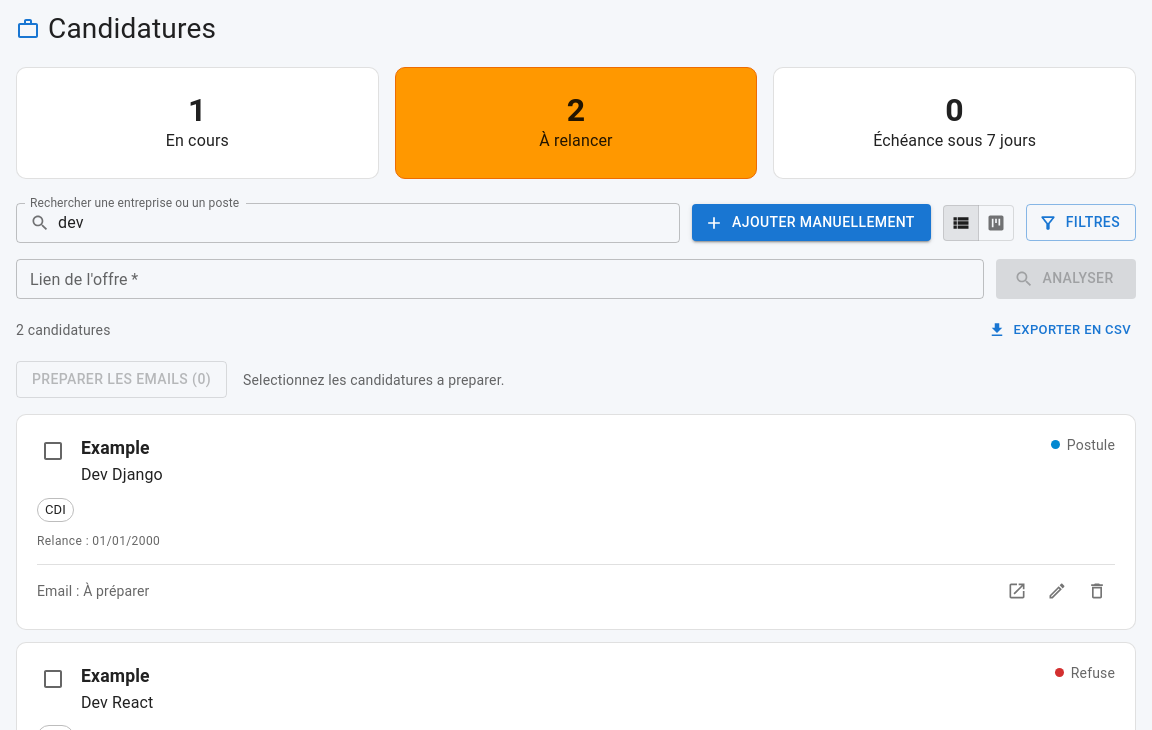
Test case: shows filtered counters and the redesigned search toolbar
Expected: the heading "Dev React" is shown, [81,690,153,715]
Expected: the field labelled "Rechercher une entreprise ou un poste" holds "dev", [58,203,680,243]
Click the button with aria-label "Afficher les filtres" at coordinates (1081, 223), box [1026,204,1136,241]
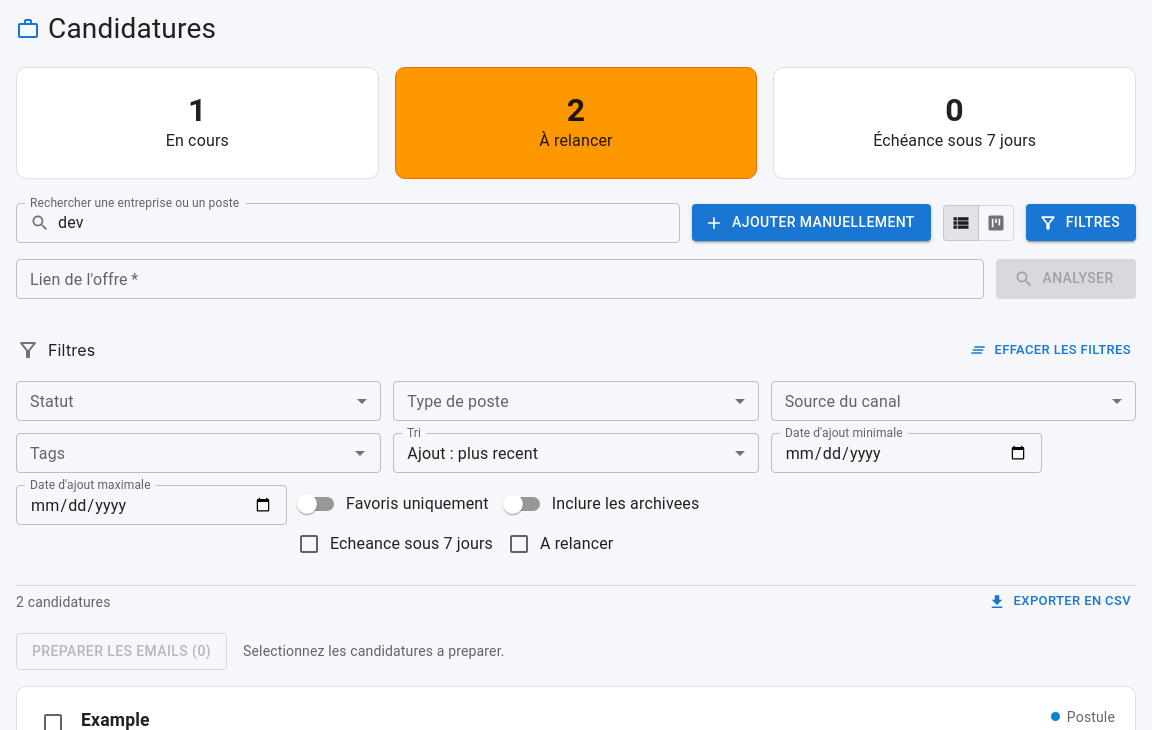
Result: the switch labelled "Inclure les archivees" is shown at [503,494,699,514]
